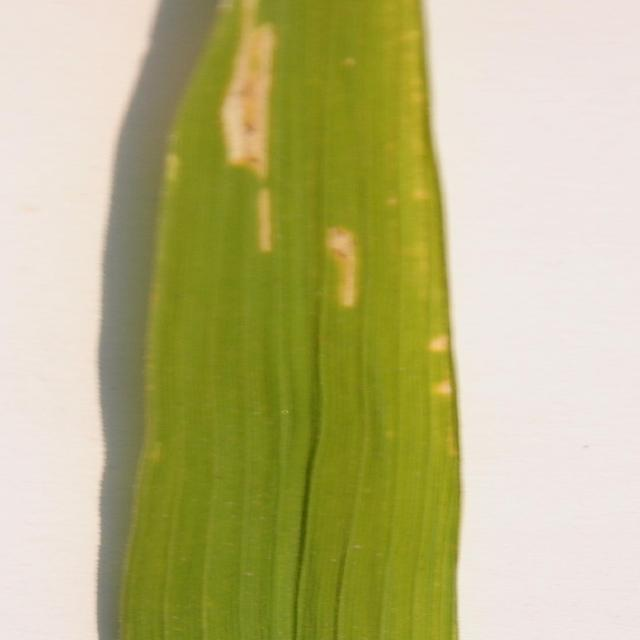Bacterial leaf blight: (115, 0, 458, 640)
